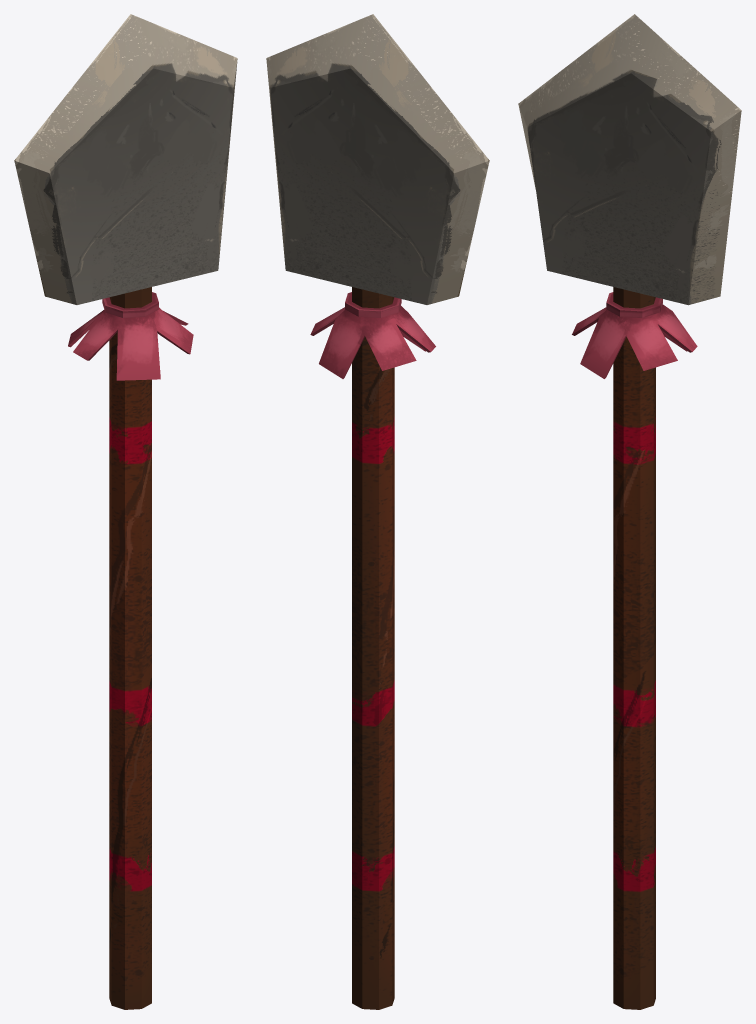
The model's file is spear_lv2.fbx.
3 renders of one model, left to right at view 1: azimuth 30°, elevation 25°; view 2: azimuth 150°, elevation 25°; view 3: azimuth 330°, elevation 25°, orthographic.
Parts seen in each view (by area): view 1: spearhead, handle, deco, decostring; view 2: spearhead, handle, deco, decostring; view 3: spearhead, handle, deco, decostring.
Boxes of the visible parts, x1=… form: spearhead: x1=14, y1=14, x2=237, y2=304; handle: x1=109, y1=287, x2=151, y2=1009; deco: x1=68, y1=307, x2=193, y2=380; decostring: x1=102, y1=292, x2=158, y2=317; spearhead: x1=266, y1=14, x2=489, y2=304; handle: x1=352, y1=287, x2=394, y2=1009; deco: x1=310, y1=306, x2=435, y2=378; decostring: x1=345, y1=292, x2=401, y2=317; spearhead: x1=518, y1=14, x2=741, y2=305; handle: x1=613, y1=287, x2=655, y2=1009; deco: x1=572, y1=304, x2=697, y2=378; decostring: x1=606, y1=292, x2=662, y2=317.
Bounding box in the file's own units: 0.3515 × 1.48 × 0.1644.
Materials: 1 (1 with a texture image).
